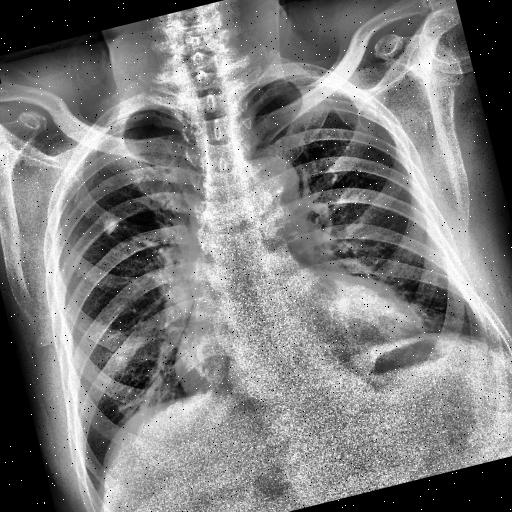0- Aortic enlargement: (230, 148, 308, 228), (243, 148, 307, 218), (244, 148, 302, 204)
2- Calcification: (102, 216, 121, 234)
3- Cardiomegaly: (166, 277, 426, 403), (170, 290, 432, 406), (172, 303, 428, 401)
8- Nodule-Mass: (102, 217, 120, 235), (102, 216, 118, 236)
